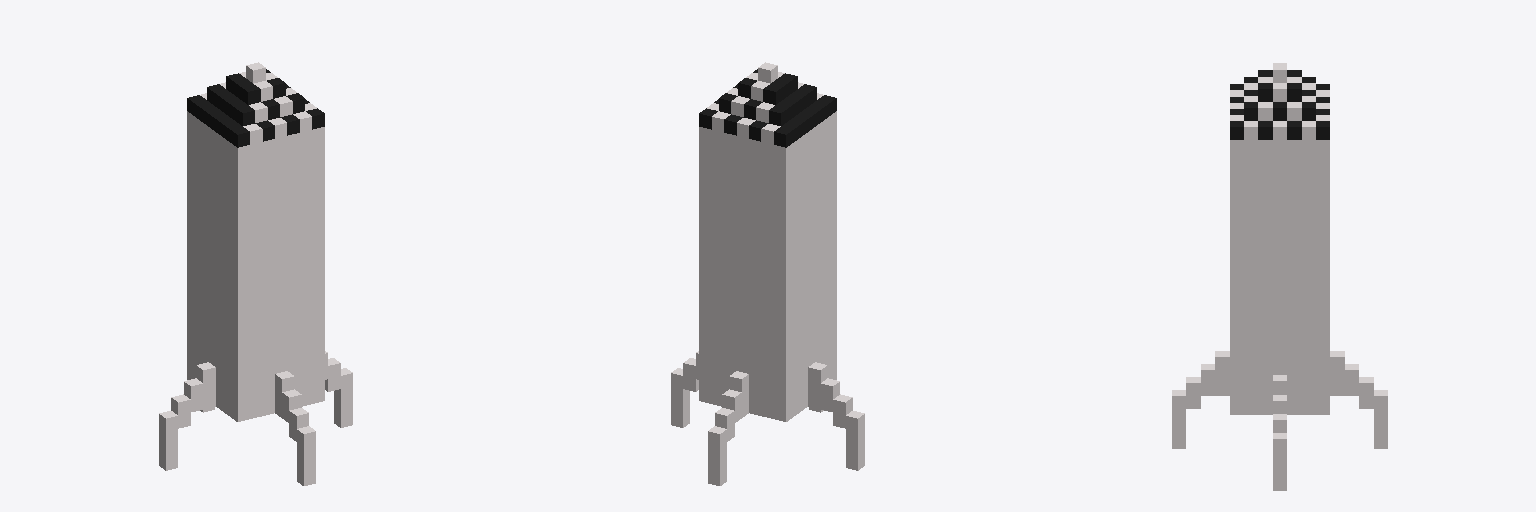
3 views of the same model, side by side, from view 1: azimuth 30°, elevation 25°; view 2: azimuth 150°, elevation 25°; view 3: azimuth 270°, elevation 25° (orthographic).
Visible parts, largest first — view 1: object 1; view 2: object 1; view 3: object 1.
Boxes of the visible parts, x1=… form: object 1: x1=159, y1=62, x2=352, y2=485; object 1: x1=671, y1=62, x2=864, y2=485; object 1: x1=1172, y1=63, x2=1387, y2=490.
Bounding box in the file's own units: 1.5 × 2.9 × 1.5.
1 materials, 1 textured.